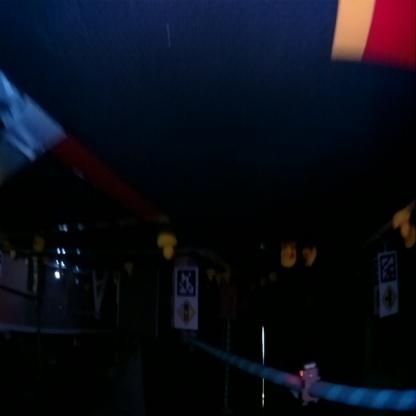Duckie: (157, 235, 176, 261), (392, 211, 410, 238), (280, 244, 296, 268), (302, 246, 316, 270), (406, 224, 414, 250)
Intersection sign: (381, 288, 396, 313)
QR code: (176, 270, 195, 298), (380, 255, 396, 283)
Signal sign: (176, 302, 195, 326)
Traffic light: (298, 362, 320, 408)
